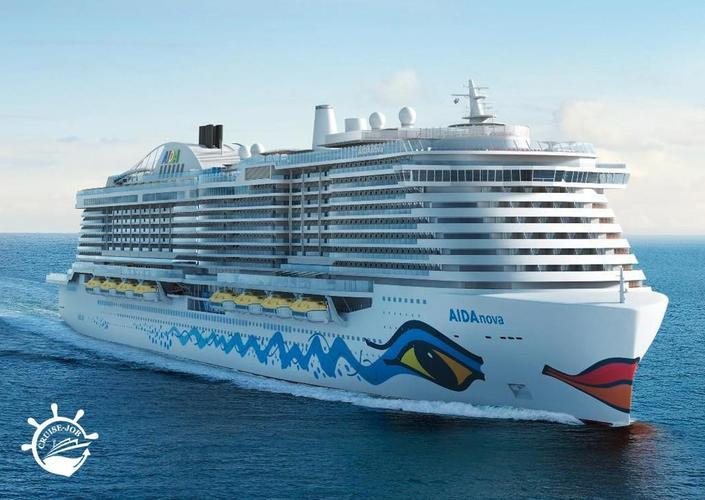Ship: (62, 130, 674, 418)
